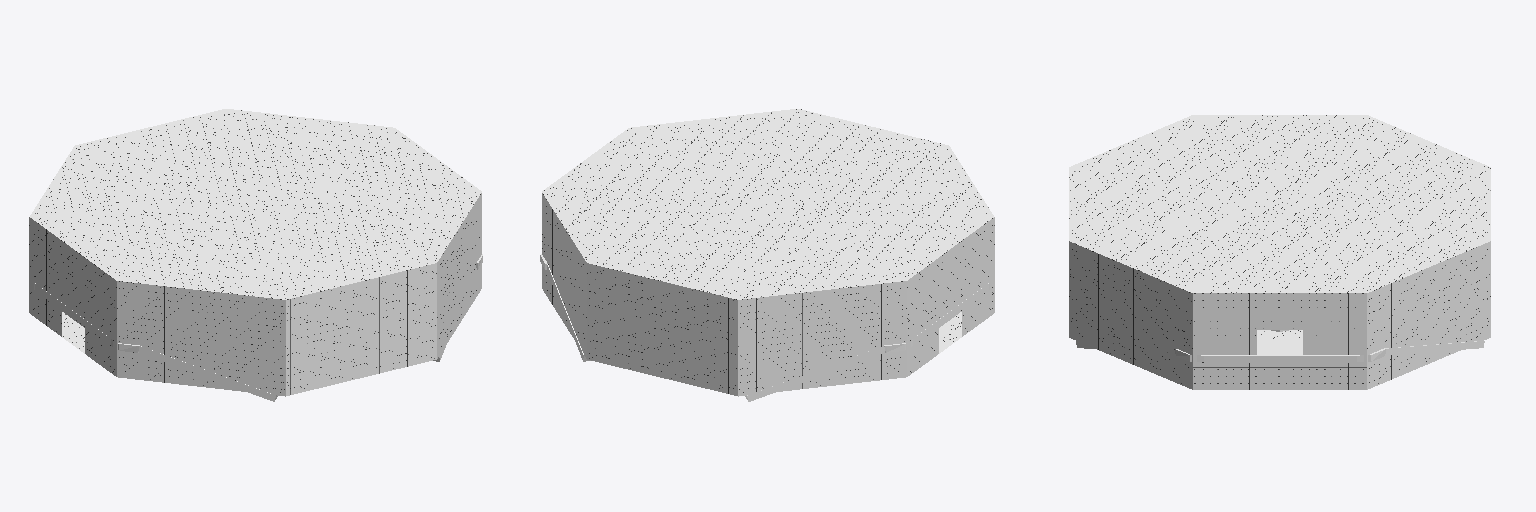
3 renders of one model, left to right at view 1: azimuth 30°, elevation 25°; view 2: azimuth 150°, elevation 25°; view 3: azimuth 270°, elevation 25°, orthographic.
Visible parts, largest first — view 1: Lobby_Primitives; view 2: Lobby_Primitives; view 3: Lobby_Primitives.
Boxes of the visible parts, x1=… form: Lobby_Primitives: x1=29, y1=109, x2=482, y2=401; Lobby_Primitives: x1=540, y1=109, x2=994, y2=401; Lobby_Primitives: x1=1069, y1=115, x2=1490, y2=389.
Bounding box in the file's own units: 55.54 × 15.01 × 55.43.
Materials: 3 (1 with a texture image).